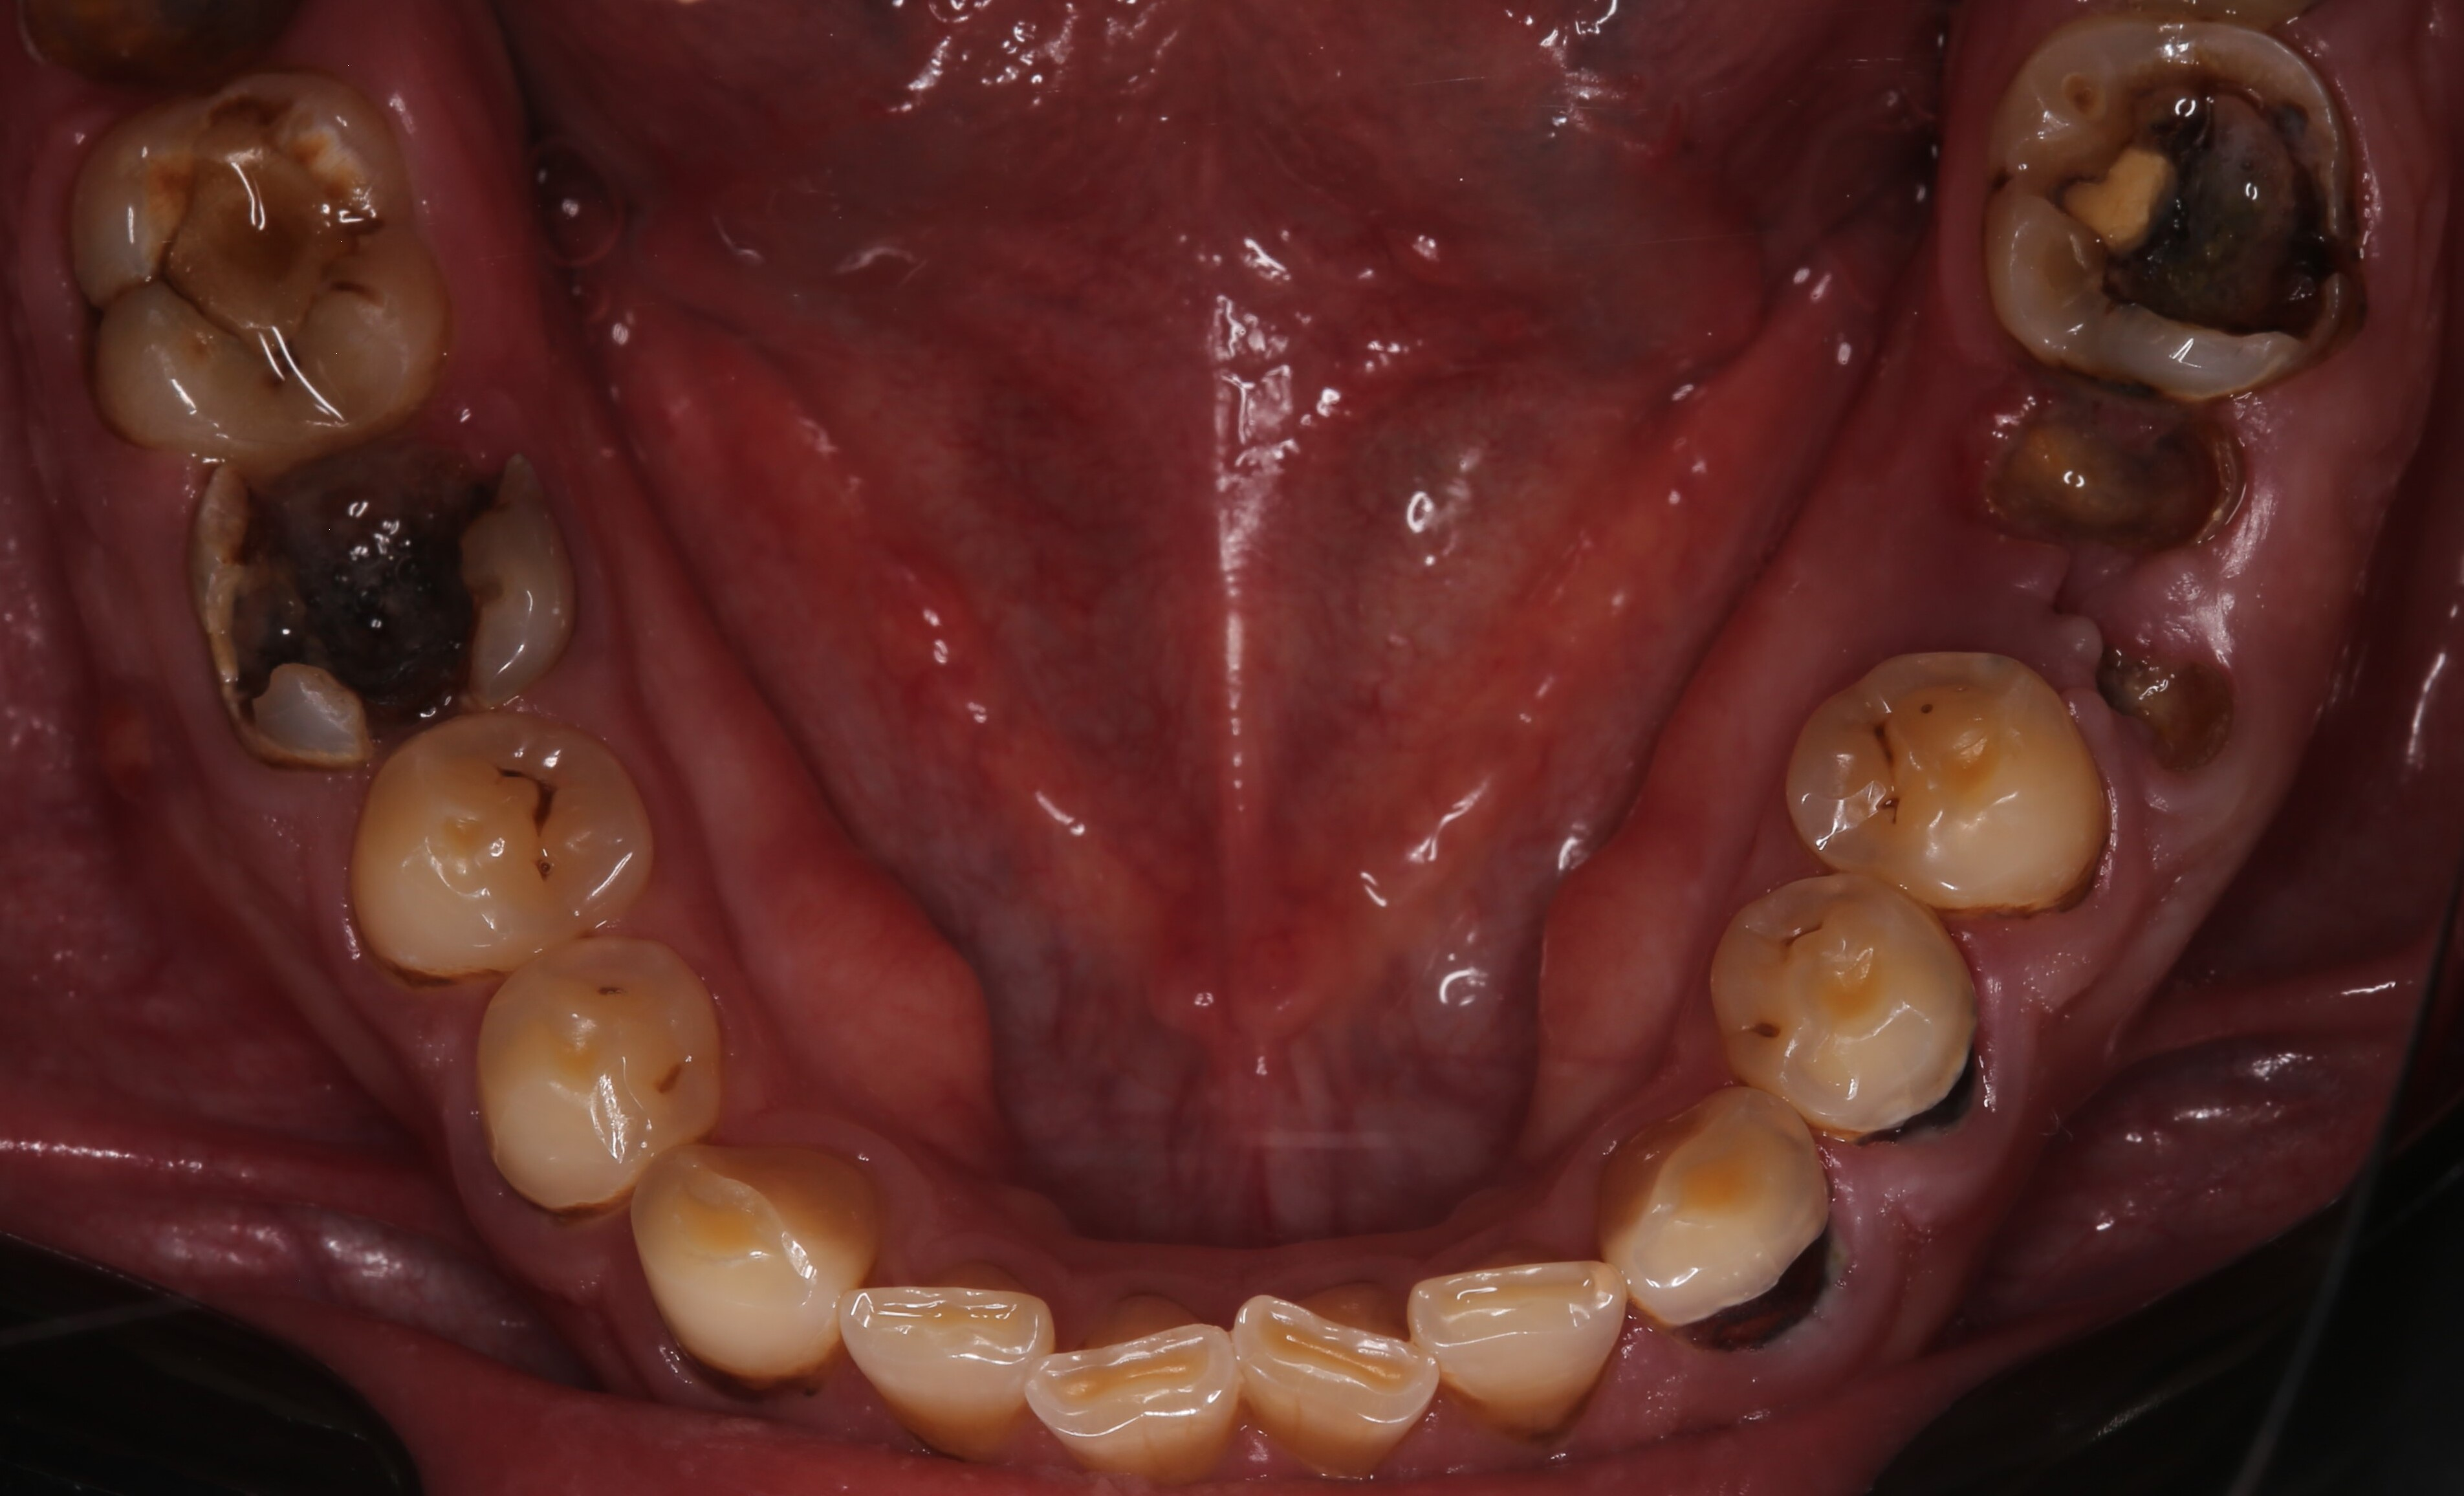LL1BC_decay: (1700, 873, 1999, 1146)
LL2BC_decay: (1774, 639, 2128, 922)
LL2M_decay: (1975, 5, 2381, 415)
LLCI_decay: (1218, 1237, 1429, 1470)
LLC_decay: (1603, 1088, 1848, 1352)
LLLI_decay: (1401, 1218, 1639, 1441)
LR1BC_decay: (479, 942, 730, 1218)
LR1M_decay: (181, 451, 577, 769)
LR2BC_decay: (350, 709, 660, 968)
LR2M_decay: (67, 84, 454, 466)
LRCI_decay: (1035, 1295, 1241, 1475)
LRC_decay: (634, 1130, 896, 1394)
LRLI_decay: (840, 1248, 1068, 1456)
